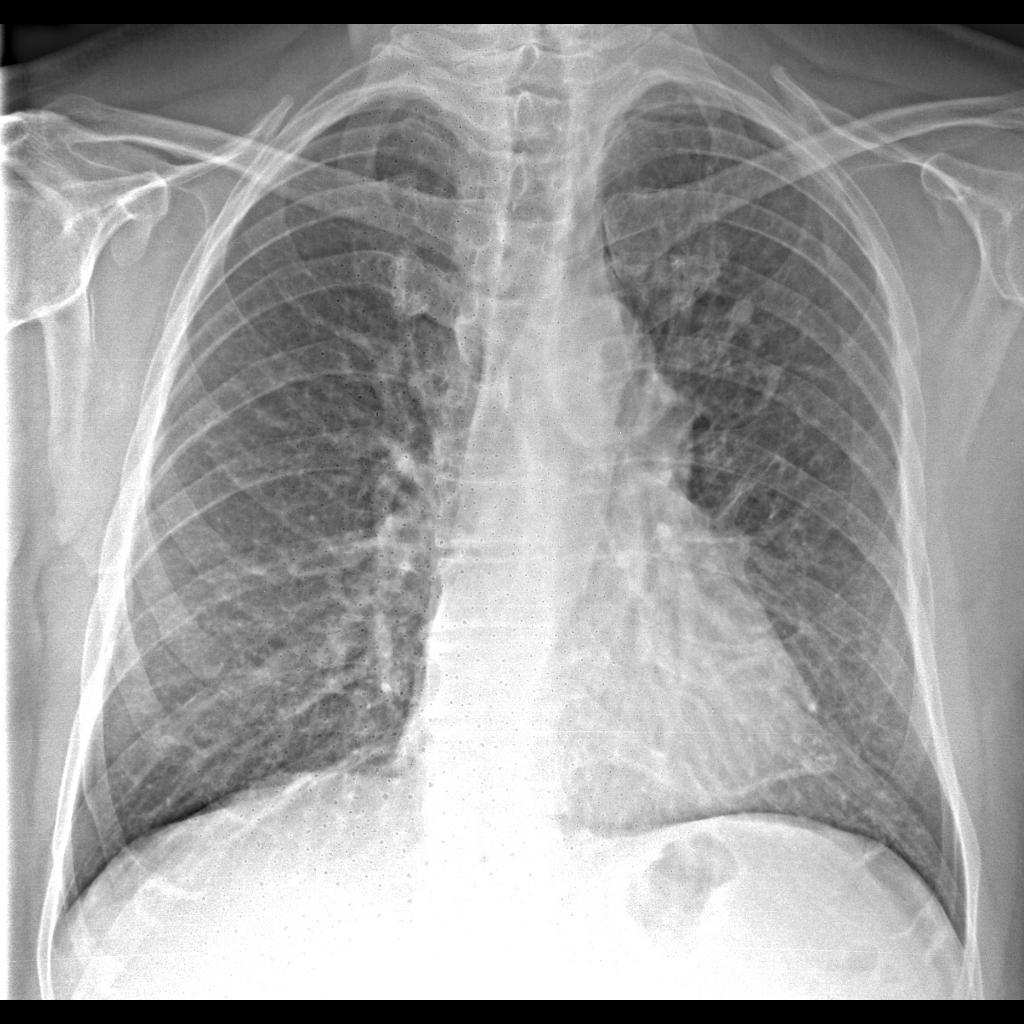Nodule: (725, 295, 759, 342)
